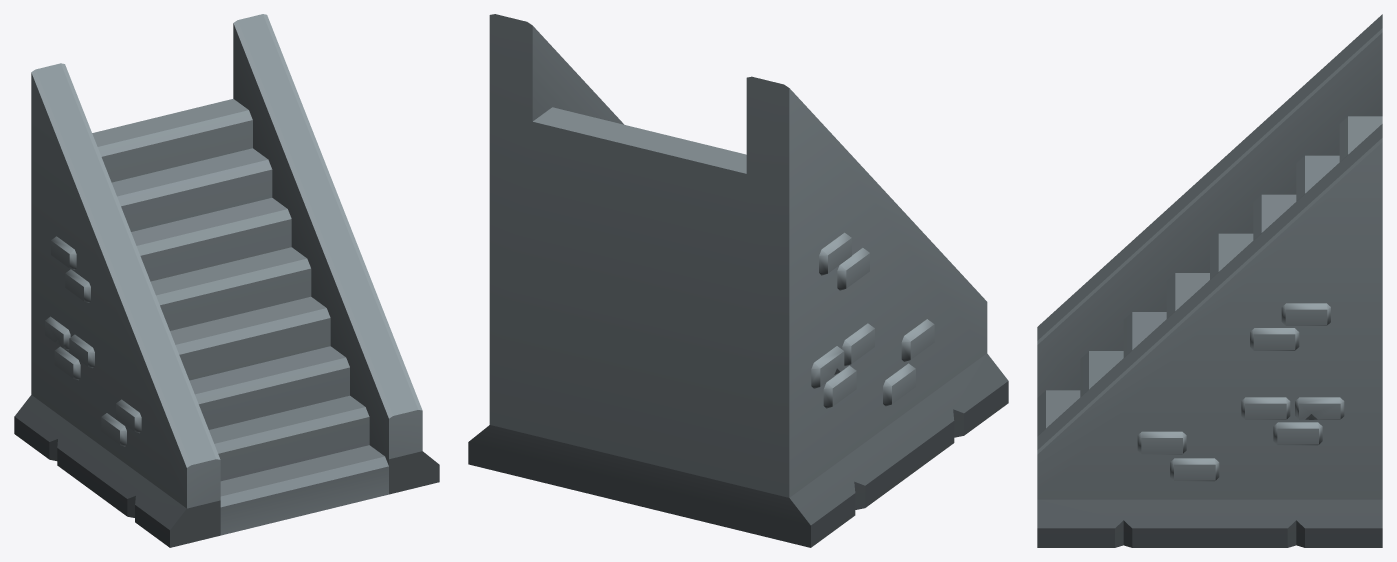
Rendered from stairs_narrow.gltf.
3 renders of one model, left to right at view 1: azimuth 30°, elevation 25°; view 2: azimuth 150°, elevation 25°; view 3: azimuth 270°, elevation 25°, orthographic. The views are drawn at different scales.
Parts seen in each view (by area): view 1: stairs_narrow; view 2: stairs_narrow; view 3: stairs_narrow.
Boxes of the visible parts, x1,y1,x2,y2 form: stairs_narrow: (14, 14, 439, 547); stairs_narrow: (468, 14, 1008, 547); stairs_narrow: (1037, 14, 1382, 547).
Size of the model in its own units: 4 by 5.1 by 4.
1 material, 1 textured.
